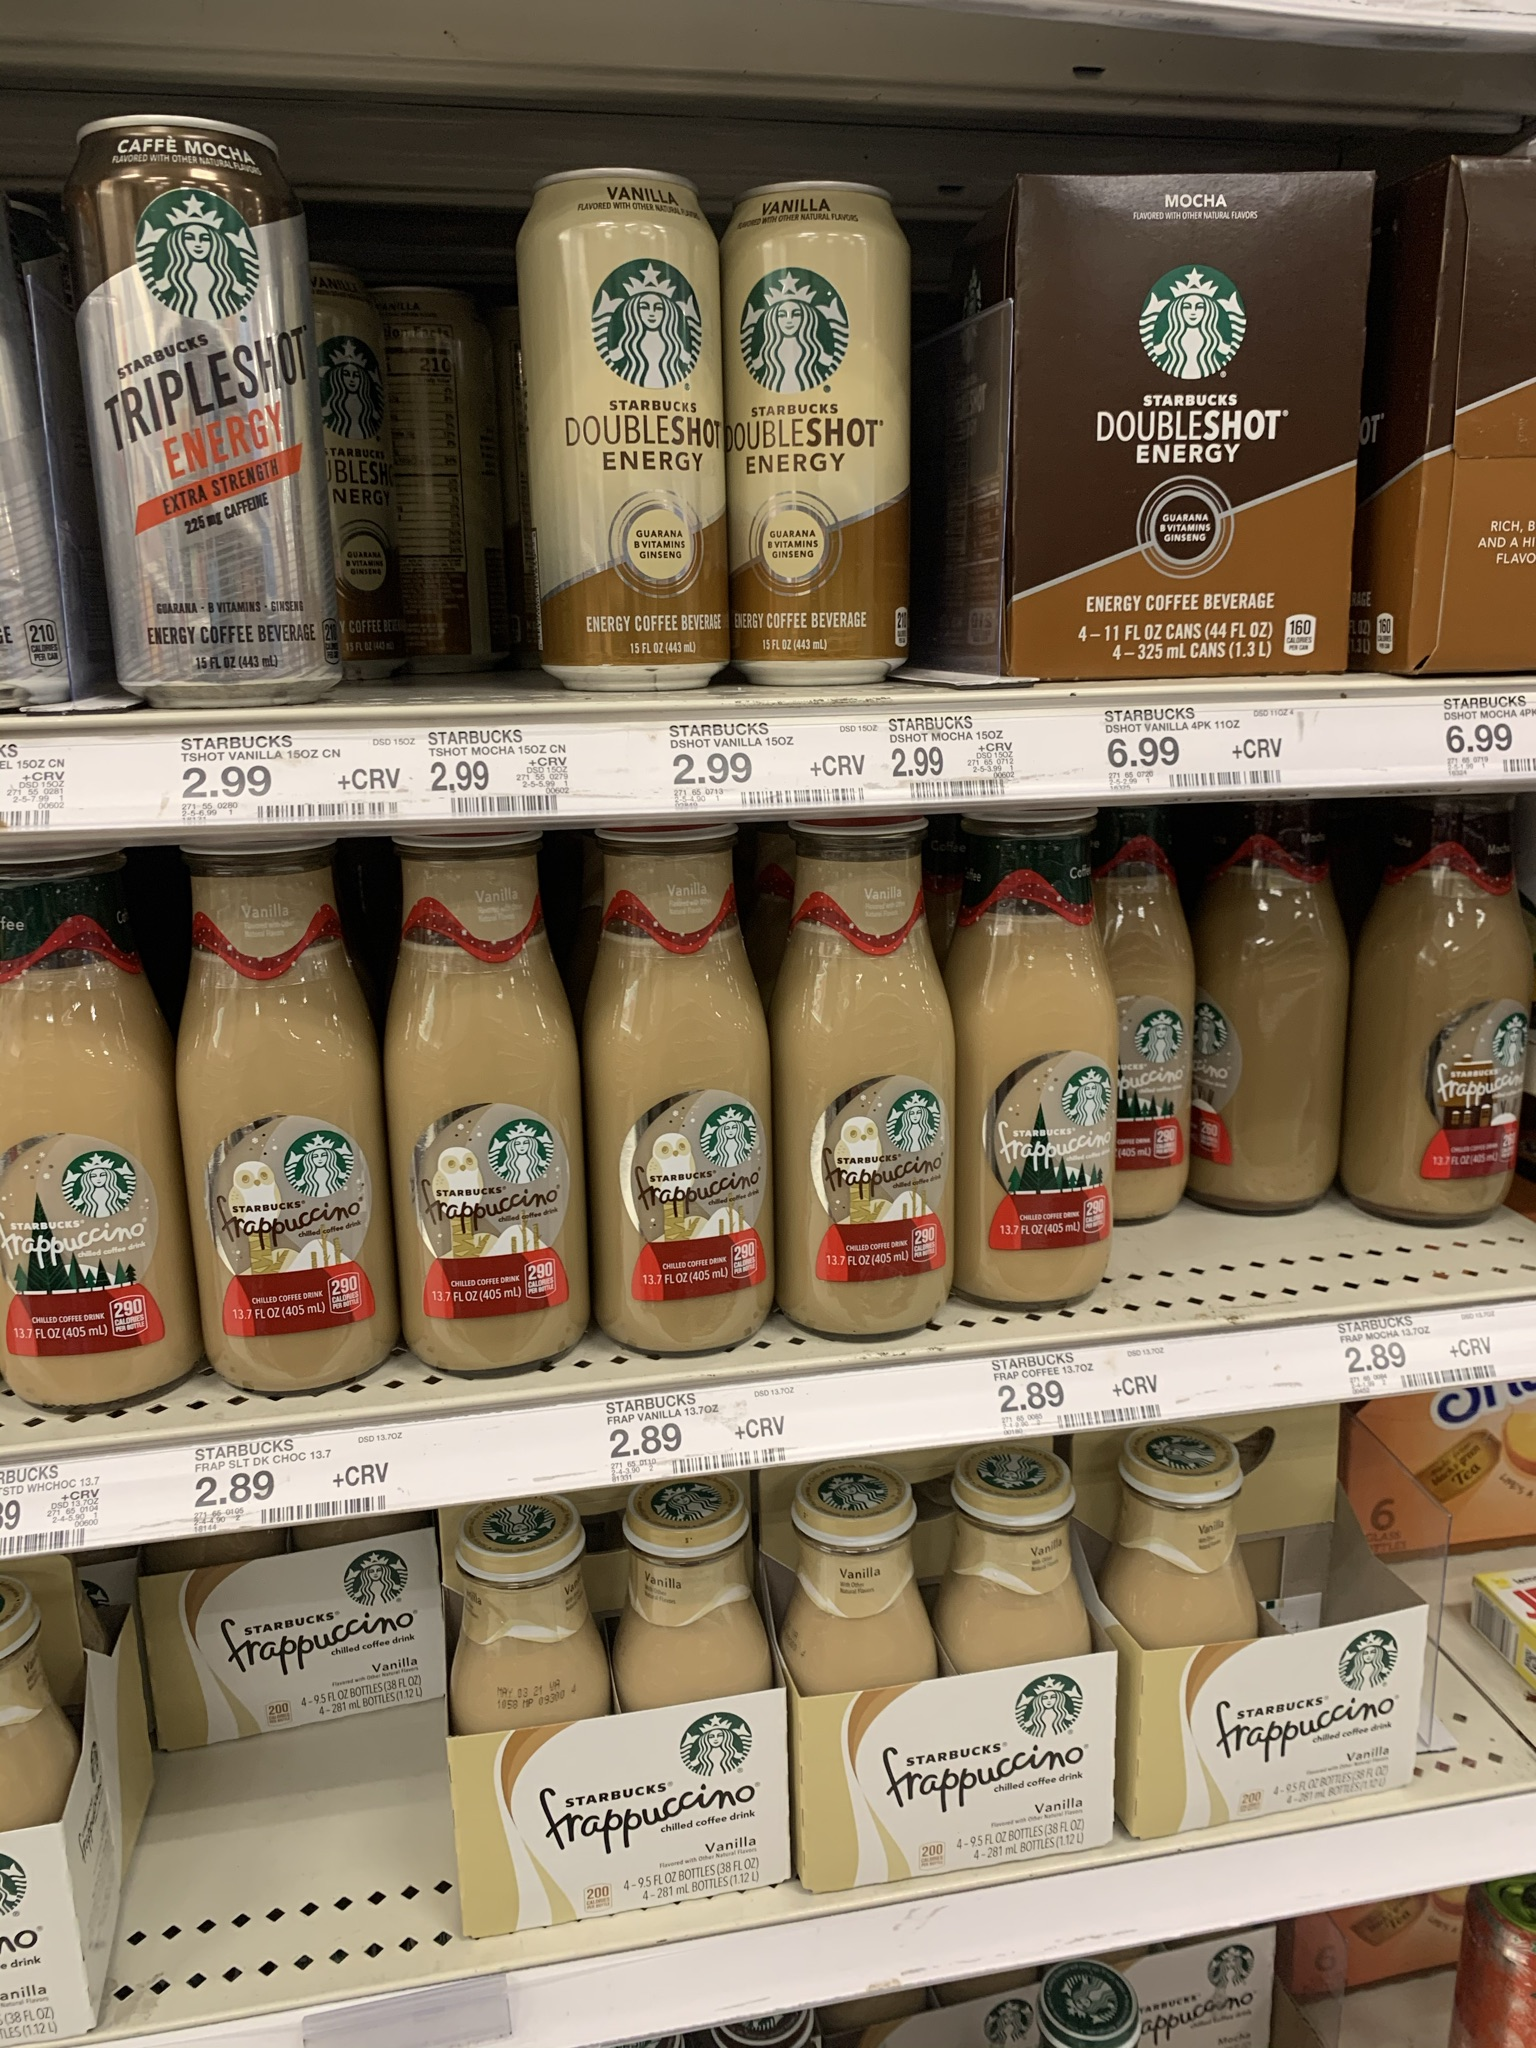box: (1020, 176, 1349, 674)
can: (103, 132, 316, 687), (529, 173, 716, 681), (741, 182, 900, 672)
